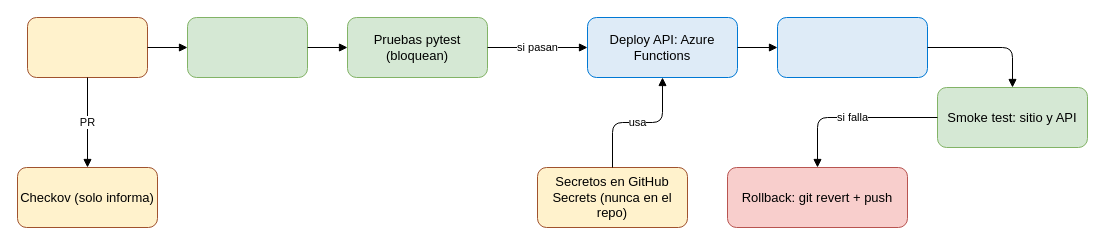
The diagram is 1105 pixels wide and 245 high, and some of its shapes have lost their labels. The centre of each missing label's shape, as x and y in pixels:
"Deploy sitio: Azure Storage" goes at point 852,47.
"Lint: flake8" goes at point 247,47.
"Push / PR a main" goes at point 87,47.
